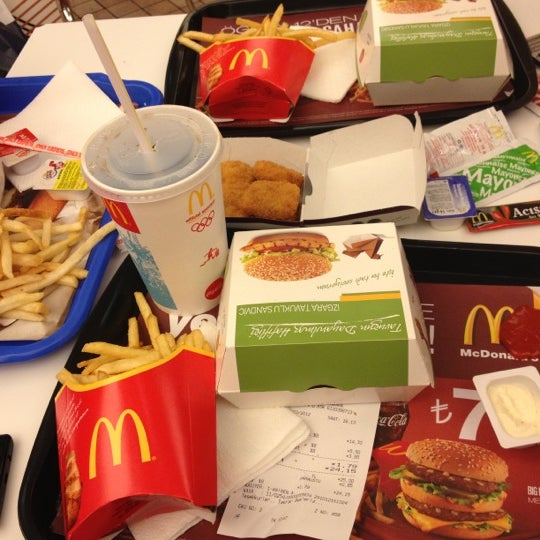mcdonalds: (83, 405, 154, 487), (228, 42, 275, 76)
